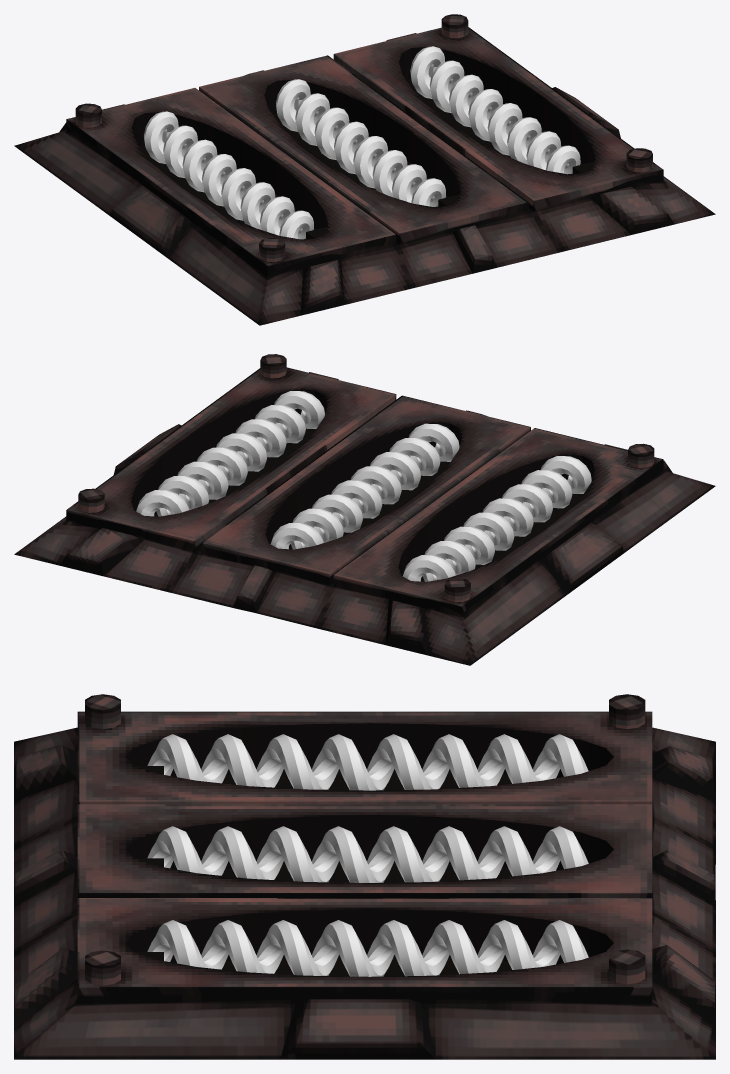
Rendered from modelHeater.fbx.
3 views of the same model, one above another, from view 1: azimuth 30°, elevation 25°; view 2: azimuth 150°, elevation 25°; view 3: azimuth 270°, elevation 25° (orthographic). The views are drawn at different scales.
Visible parts, largest first — view 1: pCube4, pHelix4; view 2: pCube4, pHelix4; view 3: pCube4, pHelix4.
Part boxes in pixels (x1,y1,x2,y2): pCube4: (14, 14, 715, 325); pHelix4: (144, 46, 580, 239); pCube4: (14, 354, 715, 665); pHelix4: (136, 391, 591, 581); pCube4: (14, 694, 715, 1059); pHelix4: (147, 734, 588, 976).
Bounding box in the file's own units: 14.32 × 1.46 × 13.23.
2 materials, 1 textured.
